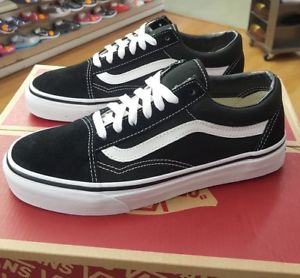Vans Old Skool Black: (1, 57, 288, 219), (25, 14, 246, 123)
